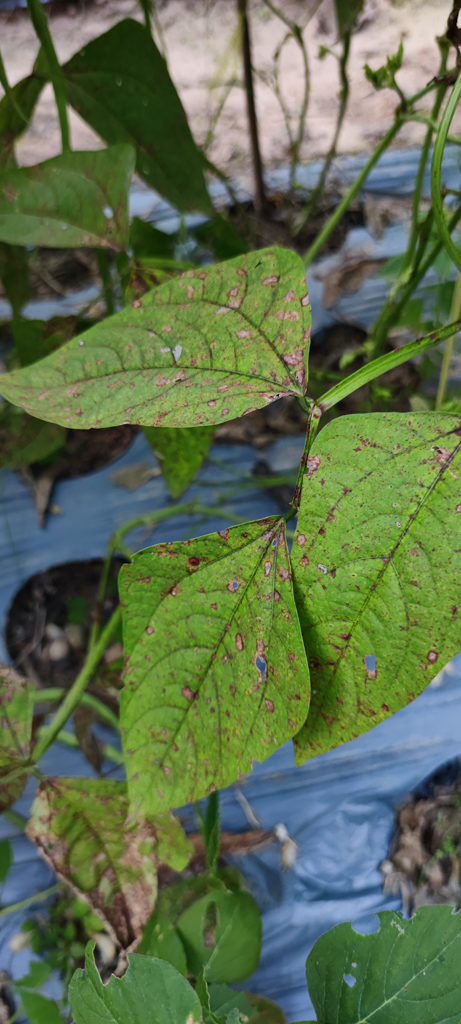Rust: (286, 401, 458, 771), (3, 235, 318, 434), (112, 512, 304, 838), (24, 774, 202, 988)
